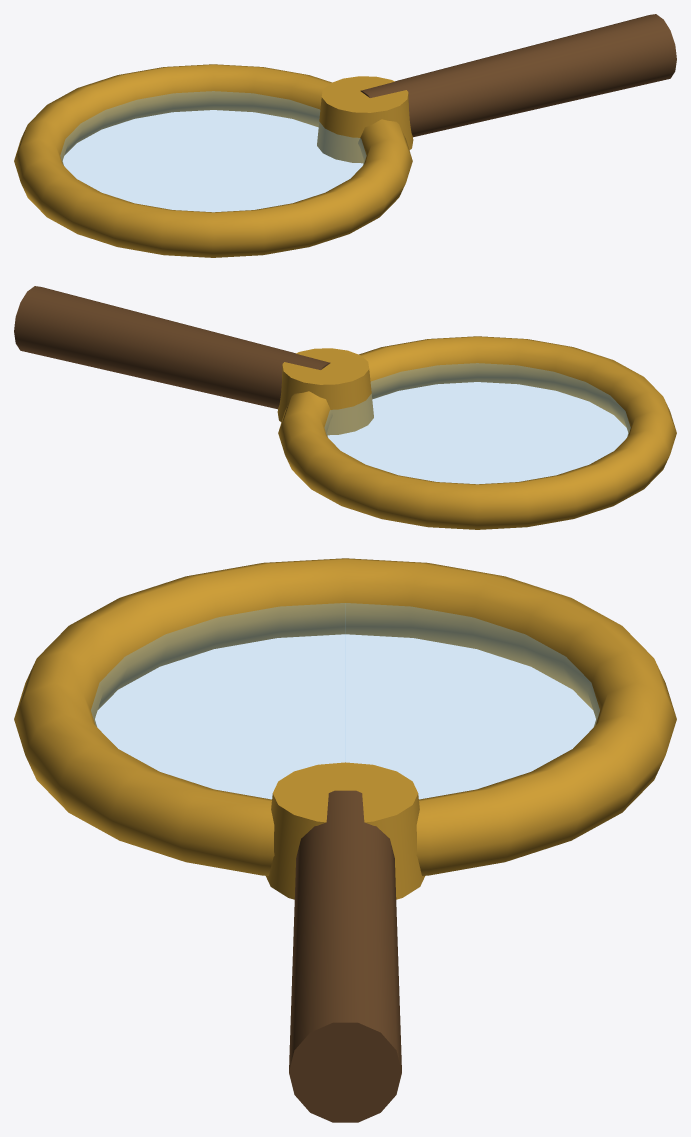
File: loupe_horloger.glb
3 renders of one model, top to bottom at view 1: azimuth 30°, elevation 25°; view 2: azimuth 150°, elevation 25°; view 3: azimuth 270°, elevation 25°, orthographic. The views are drawn at different scales.
Parts seen in each view (by area): view 1: anneau, verre, manche, bague; view 2: anneau, verre, manche, bague; view 3: anneau, verre, manche, bague.
Part boxes in pixels (box(x1,y1,x2,y2)): anneau: box(14, 64, 412, 257); verre: box(60, 91, 366, 211); manche: box(360, 14, 676, 137); bague: box(317, 76, 413, 163); anneau: box(278, 336, 676, 529); verre: box(324, 363, 630, 483); manche: box(14, 286, 330, 409); bague: box(277, 348, 373, 435); anneau: box(14, 558, 676, 875); verre: box(91, 603, 599, 798); manche: box(289, 790, 401, 1122); bague: box(266, 762, 424, 899).
Size of the model in its own units: 0.735 by 0.0682 by 0.41.
